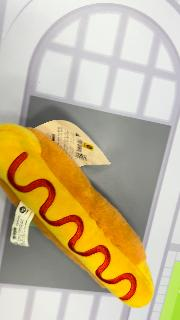hotdog: (1, 122, 155, 308)
